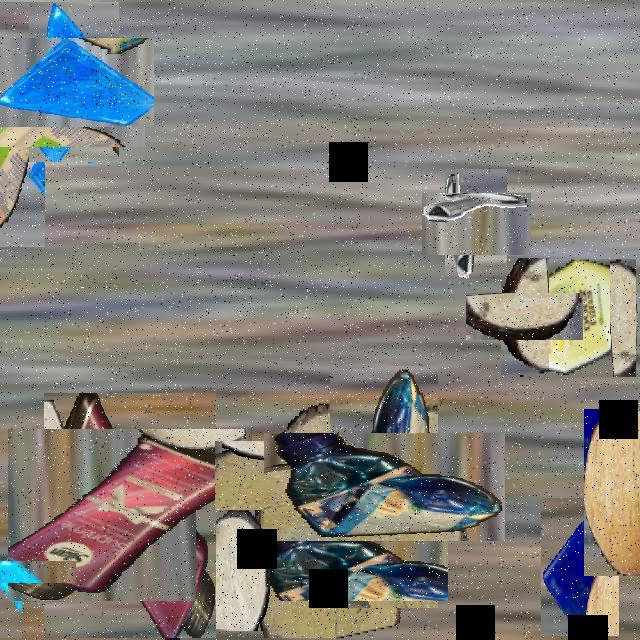glass: (12, 19, 136, 144), (541, 498, 619, 636), (0, 534, 49, 610)
metal: (433, 181, 519, 267)
plastic: (26, 411, 234, 620), (296, 400, 472, 574), (0, 51, 95, 197), (524, 259, 636, 377)
wood: (232, 422, 430, 620), (584, 409, 640, 576), (196, 510, 270, 631), (484, 275, 566, 358)
